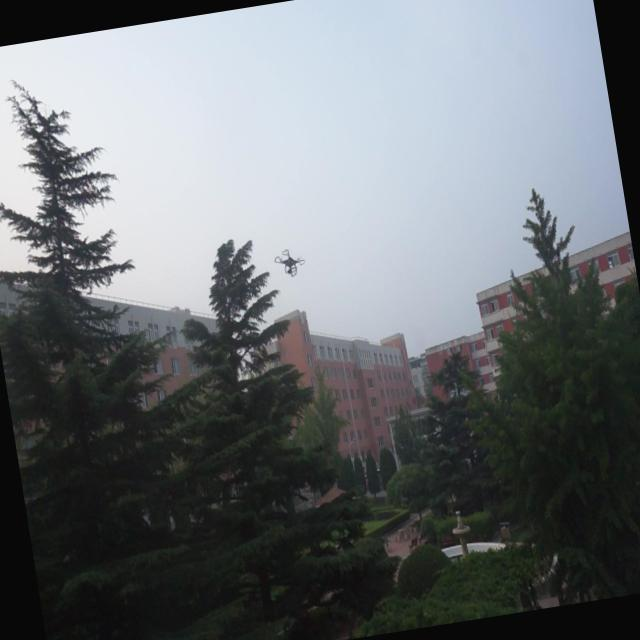drone: (272, 242, 308, 282)
